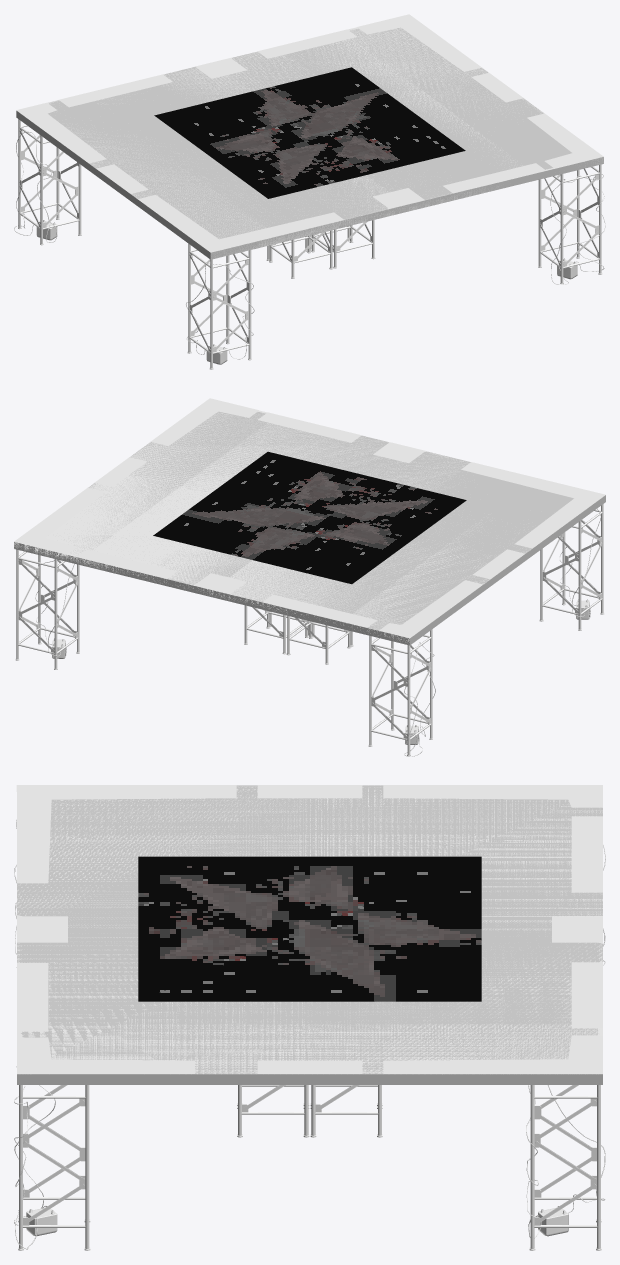
The model's file is objects_un_base_stage01_dark.gltf.
3 renders of one model, top to bottom at view 1: azimuth 30°, elevation 25°; view 2: azimuth 150°, elevation 25°; view 3: azimuth 270°, elevation 25°, orthographic. The views are drawn at different scales.
Visible parts, largest first — view 1: um_objects_un_base_stage01_dark_model_lod0Shape:objects_un_b (×7), um_objects_un_base_stage01_dark_model_lod1Shape:objects_un_b (×2), um_objects_un_base_stage01_dark_model_lod2Shape:objects_un_b; view 2: um_objects_un_base_stage01_dark_model_lod0Shape:objects_un_b (×7), um_objects_un_base_stage01_dark_model_lod1Shape:objects_un_b (×2), um_objects_un_base_stage01_dark_model_lod2Shape:objects_un_b; view 3: um_objects_un_base_stage01_dark_model_lod0Shape:objects_un_b (×7), um_objects_un_base_stage01_dark_model_lod1Shape:objects_un_b (×2), um_objects_un_base_stage01_dark_model_lod2Shape:objects_un_b.
Boxes of the visible parts, box(x1,y1,x2,y2) form: um_objects_un_base_stage01_dark_model_lod0Shape:objects_un_b (×7): box(14, 15, 605, 369); um_objects_un_base_stage01_dark_model_lod1Shape:objects_un_b (×2): box(16, 14, 603, 252); um_objects_un_base_stage01_dark_model_lod2Shape:objects_un_b: box(18, 52, 603, 259); um_objects_un_base_stage01_dark_model_lod0Shape:objects_un_b (×7): box(14, 399, 605, 756); um_objects_un_base_stage01_dark_model_lod1Shape:objects_un_b (×2): box(14, 398, 605, 637); um_objects_un_base_stage01_dark_model_lod2Shape:objects_un_b: box(17, 439, 605, 643); um_objects_un_base_stage01_dark_model_lod0Shape:objects_un_b (×7): box(14, 785, 605, 1250); um_objects_un_base_stage01_dark_model_lod1Shape:objects_un_b (×2): box(16, 785, 602, 1073); um_objects_un_base_stage01_dark_model_lod2Shape:objects_un_b: box(17, 785, 602, 1074).
Bounding box in the file's own units: 17.84 × 5.02 × 15.16.
Materials: 8 (1 with a texture image).
